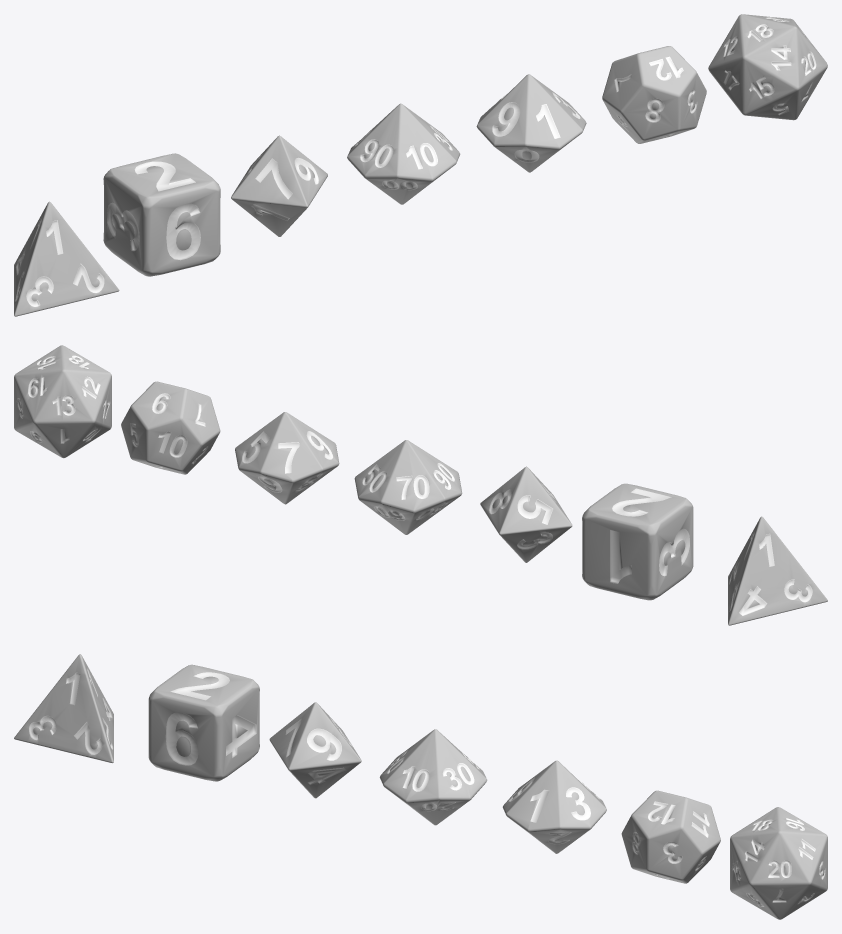
File: rpg-game-dice.fbx
The picture shows the model from 3 angles, top to bottom: view 1: azimuth 30°, elevation 25°; view 2: azimuth 150°, elevation 25°; view 3: azimuth 330°, elevation 25°; orthographic projection. The views are drawn at different scales.
Parts seen in each view (by area): view 1: RpgDices_OBJ:Dice_10_a1_lambert6_0, RpgDices_OBJ:Dice_10_a1_NUMBERS1_0; view 2: RpgDices_OBJ:Dice_10_a1_lambert6_0, RpgDices_OBJ:Dice_10_a1_NUMBERS1_0; view 3: RpgDices_OBJ:Dice_10_a1_lambert6_0, RpgDices_OBJ:Dice_10_a1_NUMBERS1_0.
Boxes of the visible parts, bbox=[...] form: RpgDices_OBJ:Dice_10_a1_lambert6_0: bbox=[14, 14, 827, 316]; RpgDices_OBJ:Dice_10_a1_NUMBERS1_0: bbox=[15, 17, 816, 306]; RpgDices_OBJ:Dice_10_a1_lambert6_0: bbox=[14, 345, 827, 625]; RpgDices_OBJ:Dice_10_a1_NUMBERS1_0: bbox=[16, 355, 812, 615]; RpgDices_OBJ:Dice_10_a1_lambert6_0: bbox=[14, 654, 827, 919]; RpgDices_OBJ:Dice_10_a1_NUMBERS1_0: bbox=[29, 668, 825, 907].
Size of the model in its own units: 2341 by 273 by 294.
